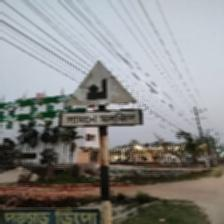Mosque in front: (62, 62, 141, 129)
